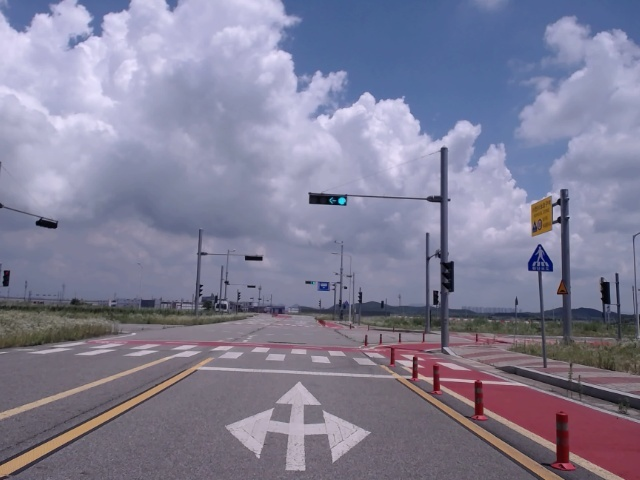all_green_4: (311, 193, 348, 206)
